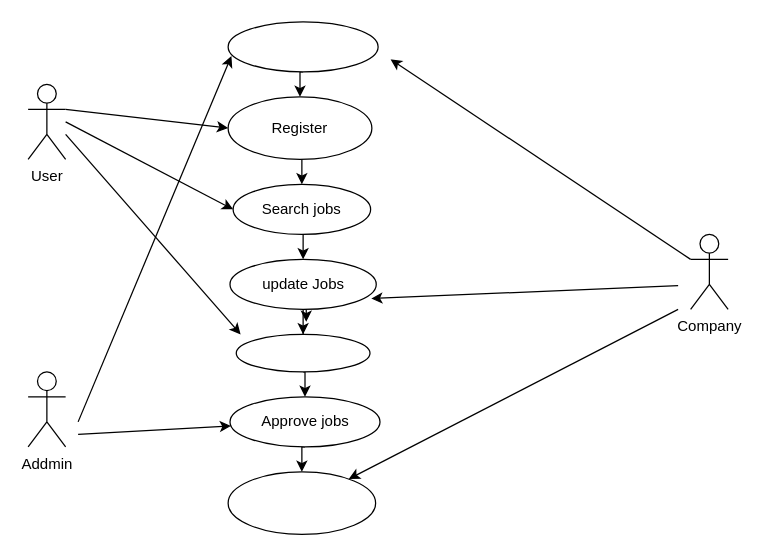
Some shapes in this 763 by 556 pixel diagram are drawn without their labels. The centre of each missing label's shape, as x and y in pixels:
"apply jobs" goes at (x=302, y=352).
"Download details" goes at (x=301, y=502).
"Login" goes at (x=302, y=46).
